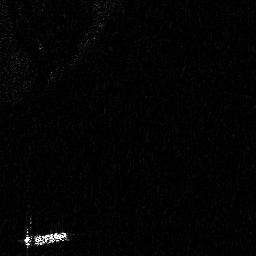ship: (17, 214, 75, 256)
